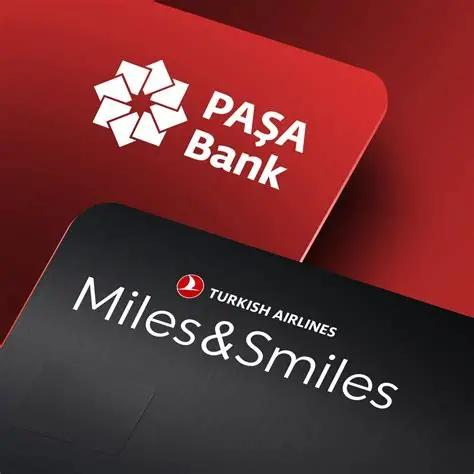Pasha Bank: (89, 55, 191, 151)
